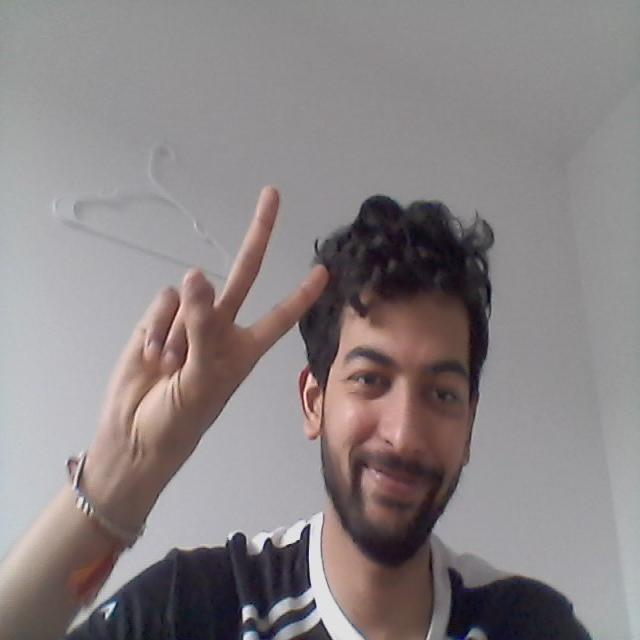nocap: (263, 170, 522, 394)
